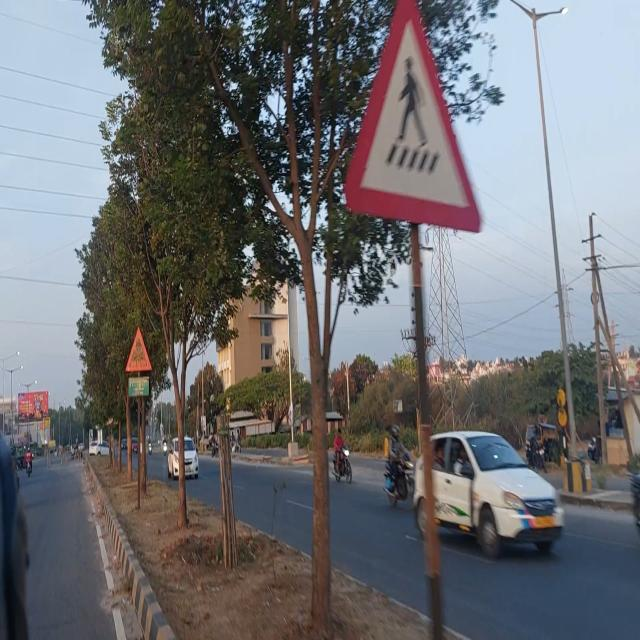bien_cam: (342, 0, 486, 238), (124, 322, 152, 376)
